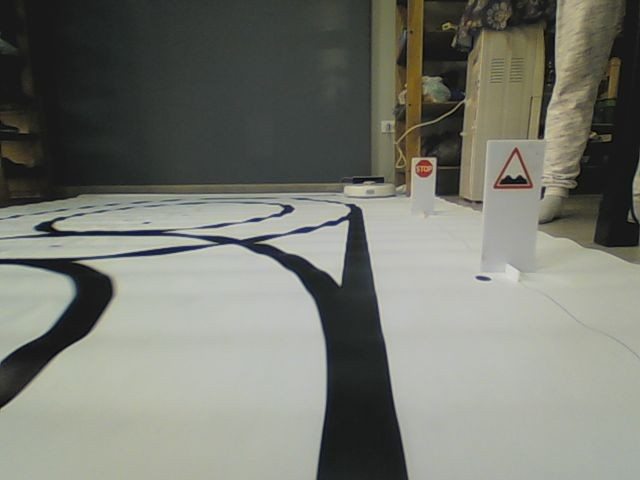Stop: (414, 159, 434, 179)
